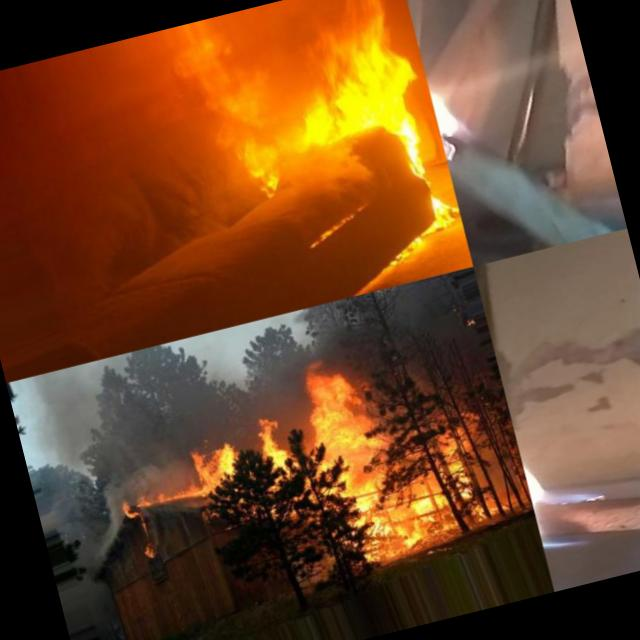fire: (300, 350, 420, 572), (502, 365, 626, 568), (261, 0, 431, 145), (388, 404, 508, 549), (420, 41, 500, 172), (386, 111, 446, 228), (186, 426, 252, 499), (248, 400, 298, 474), (120, 482, 204, 525), (239, 148, 284, 214), (138, 534, 160, 566)
smoke: (10, 328, 248, 476), (163, 18, 274, 157), (356, 270, 478, 390), (274, 130, 370, 209), (224, 314, 304, 408), (91, 438, 198, 506), (284, 295, 370, 368), (44, 464, 109, 550), (82, 538, 118, 578), (102, 503, 125, 537)
